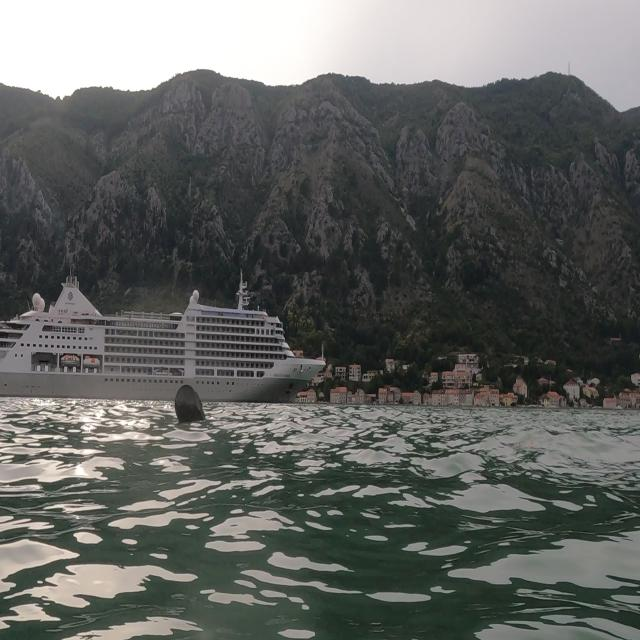boat: (1, 261, 328, 418)
buoy: (164, 376, 211, 434)
